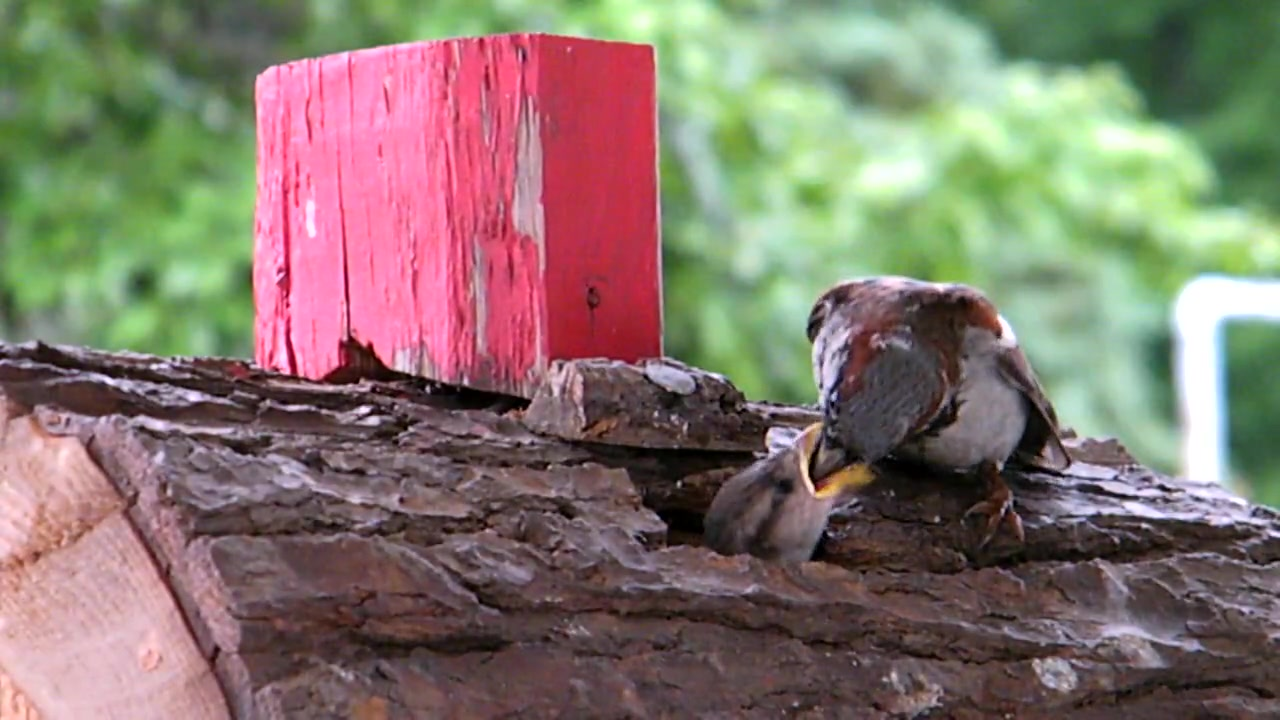bird: (808, 276, 1071, 547)
